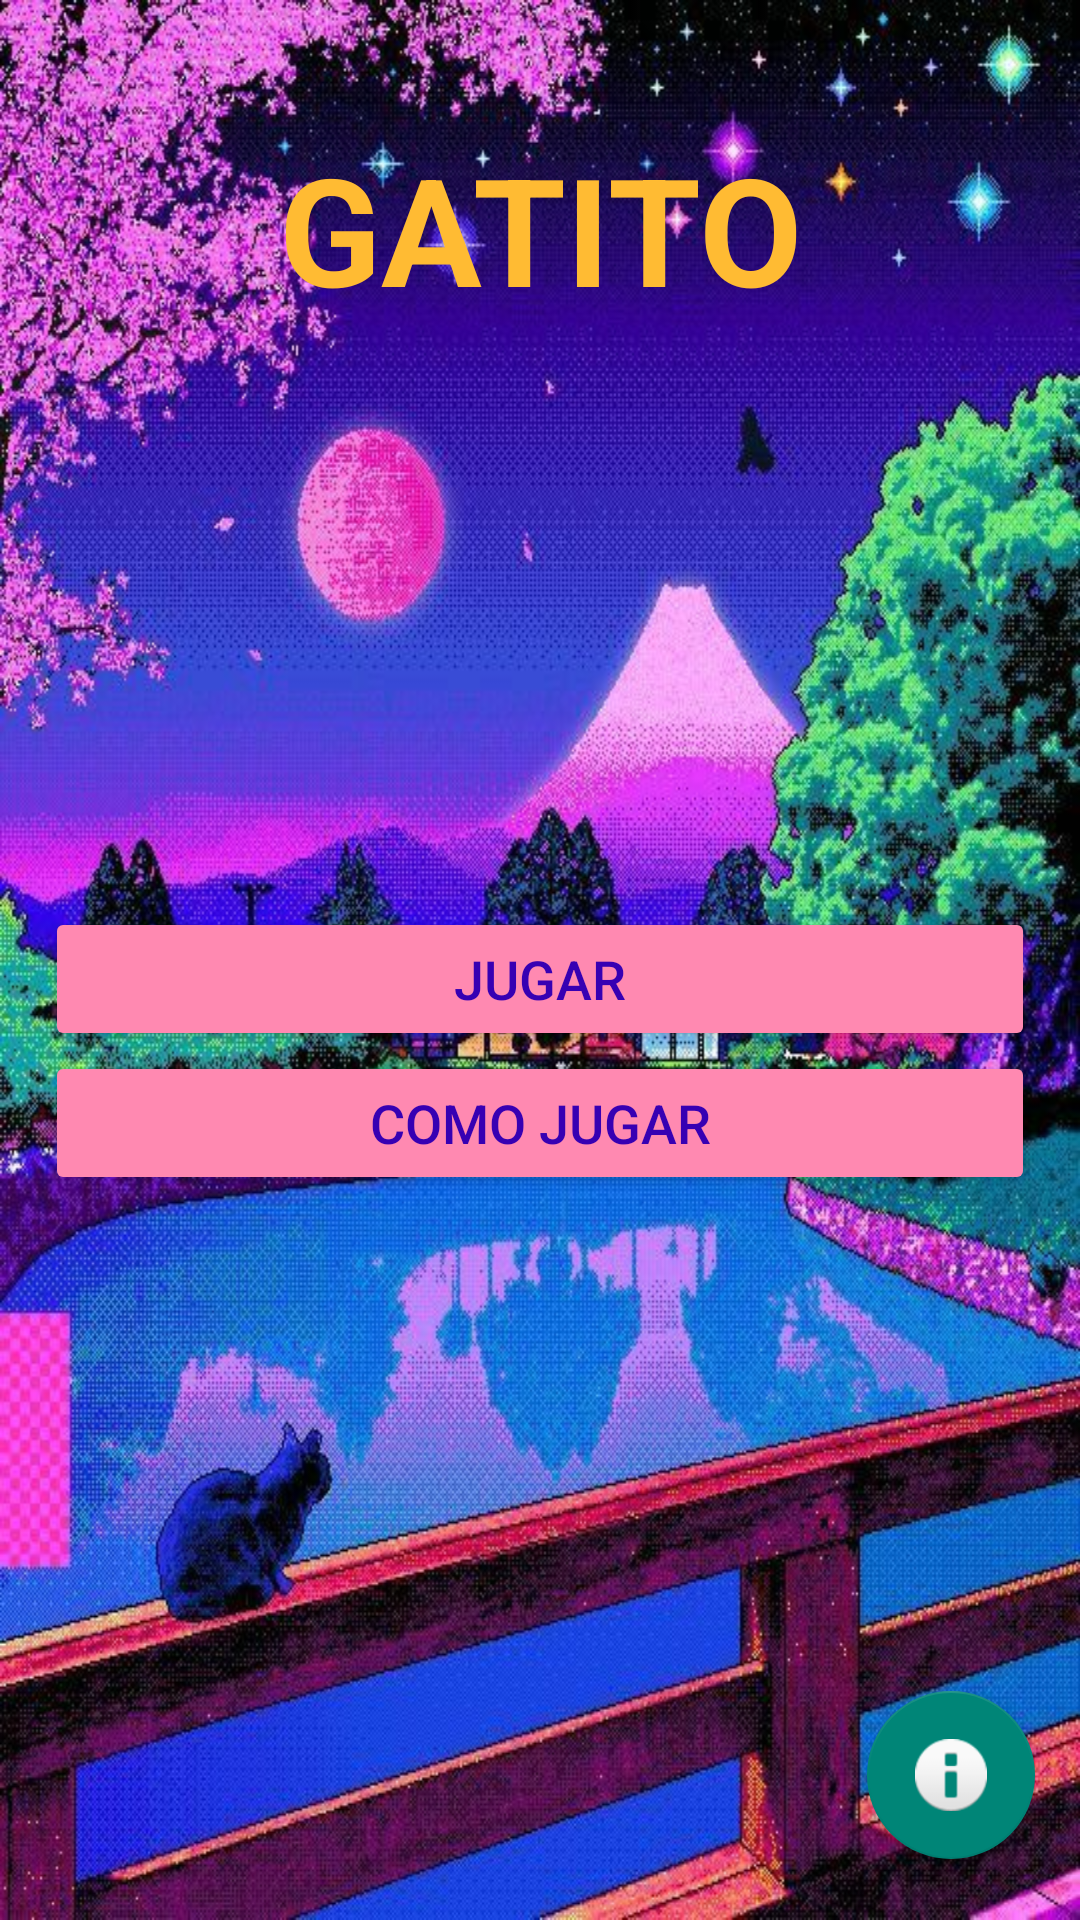

Named icons in this screenshot (1080 x 1920) and their centers, [x,y]:
info: [951,1775]
